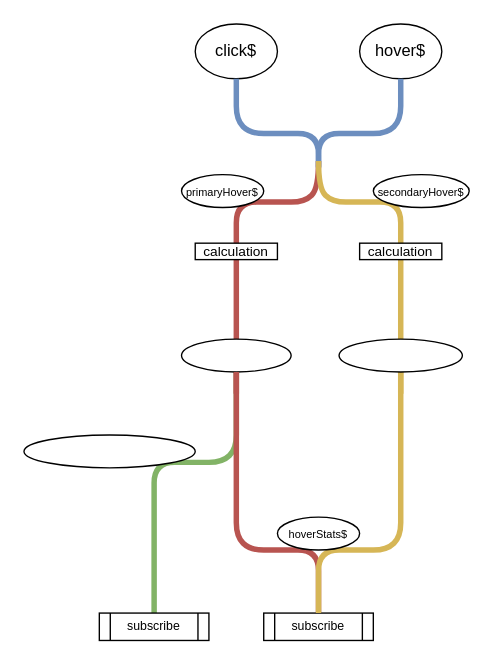
The diagram is 493 pixels wide and 664 high, and some of its shapes have lost their labels. The shapes that lost their labels are listed below. From the top down, each one's box as (x1, y1, x2, y2) in pixels, then its label:
(180, 338, 291, 372): primaryHoverStats$
(338, 338, 462, 372): secondaryHoverStats$
(23, 434, 195, 468): primaryHoverStatsNotification$
